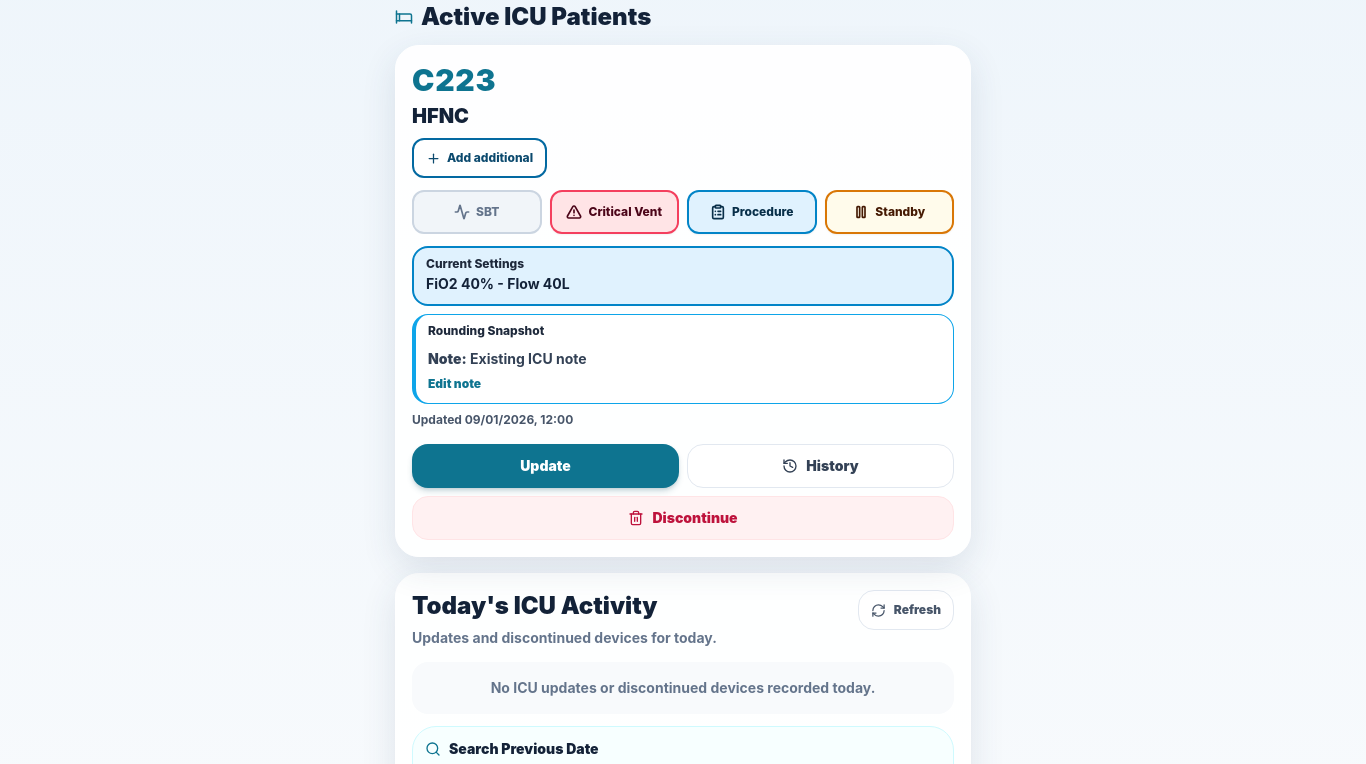
Test: ICU patient notes › updates a note directly from the compact patient card without updating device settings
(page scrolled)
Click the button "Edit note".
click(455, 384)  # box [428,376,481,392]
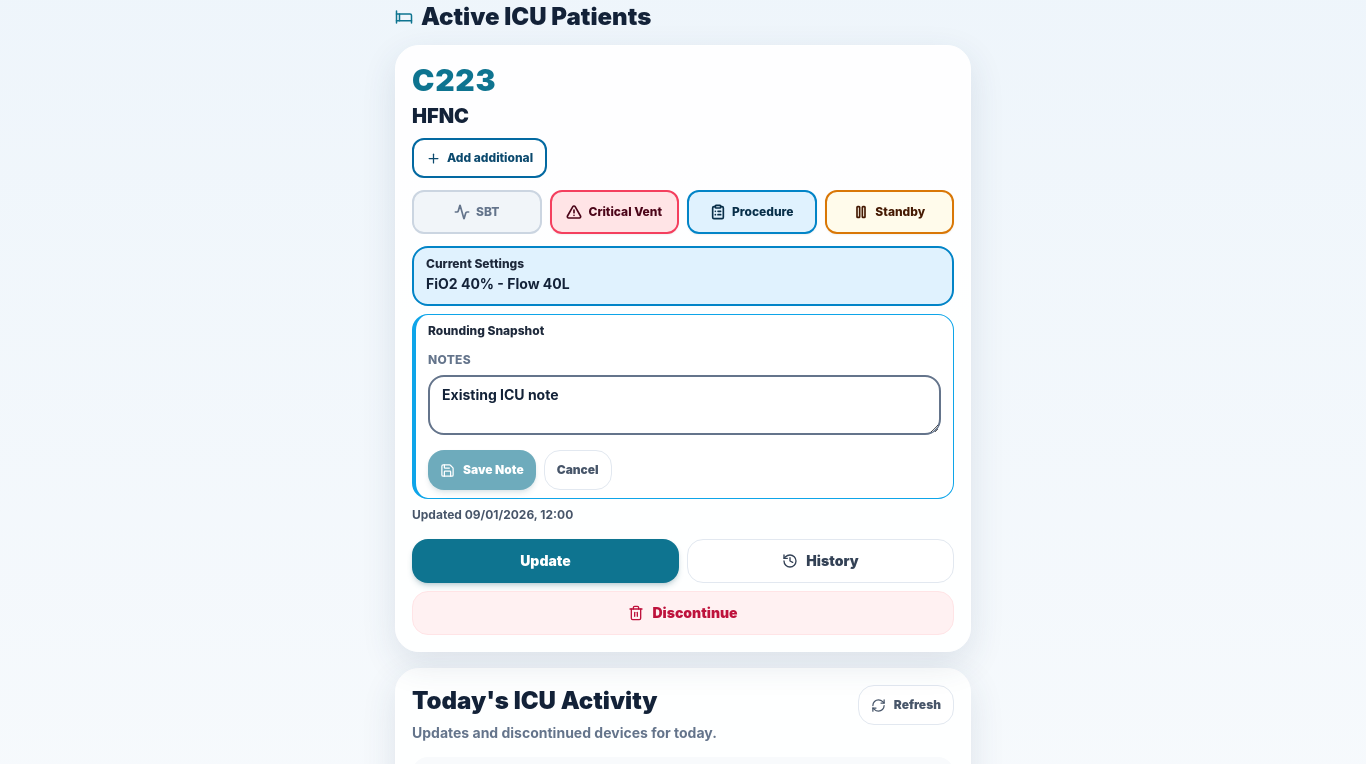
Replace the text in the text box labelled "Notes" with "  Updated inline note  " at point(684, 405), box [428,375,941,435]
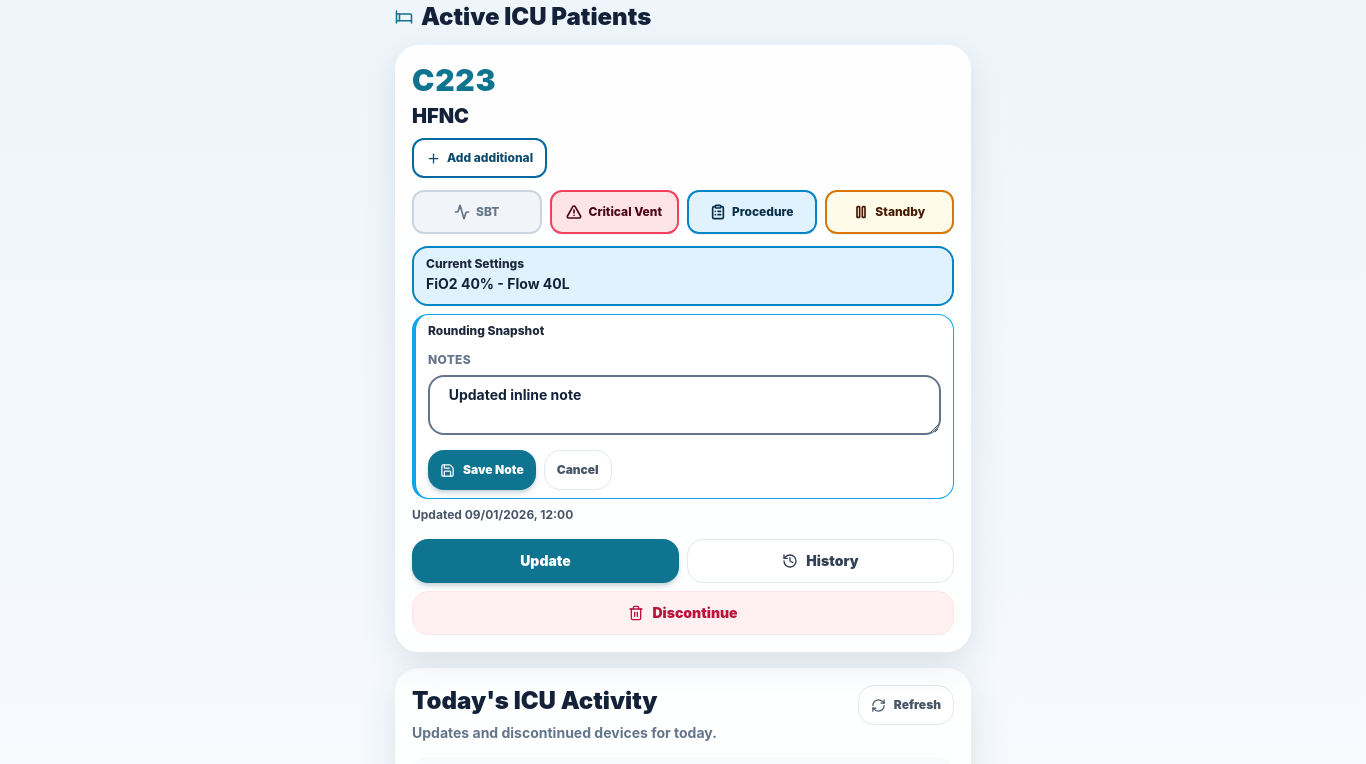
Click the button "Save Note".
click(482, 470)  # box [428,450,536,490]
(page scrolled)
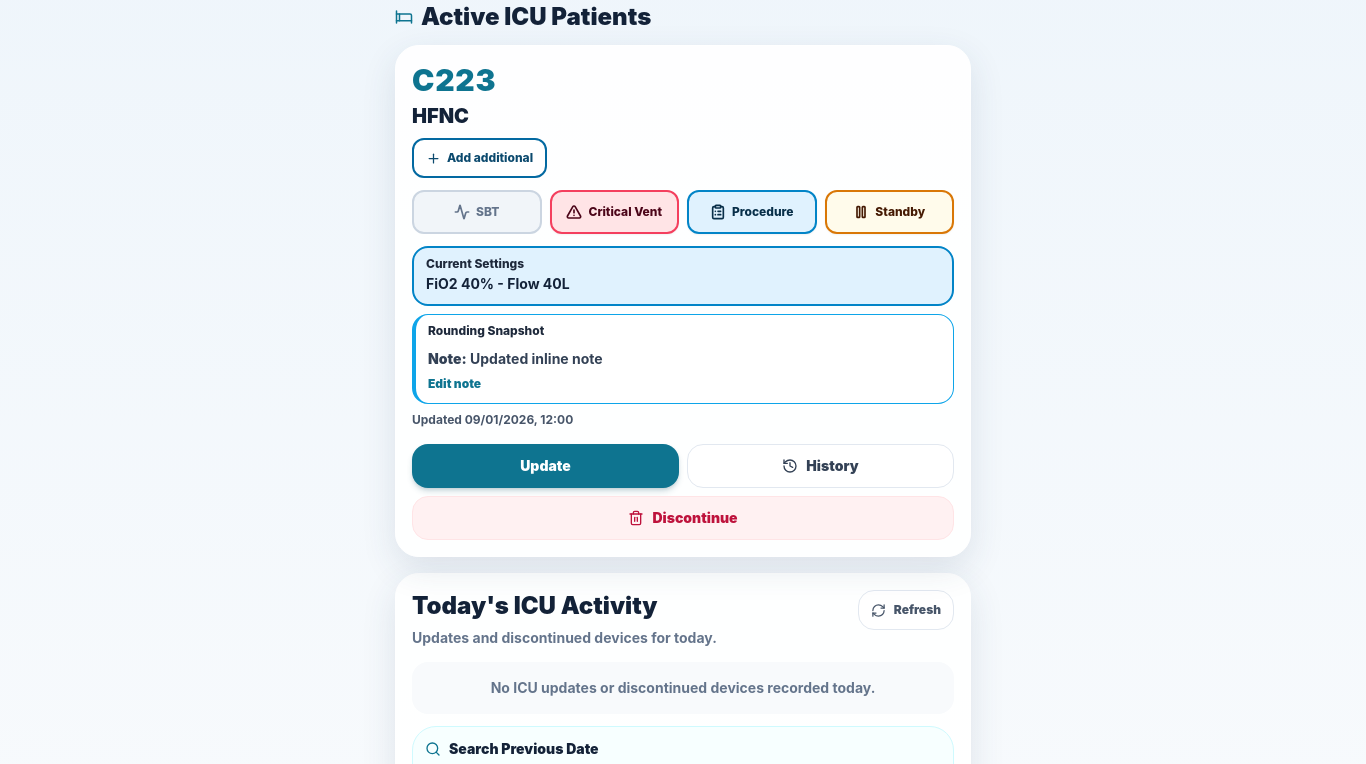
Expected: the field labelled "Notes" is not shown
Now the button "Edit note" is shown, box [428,376,481,392]
